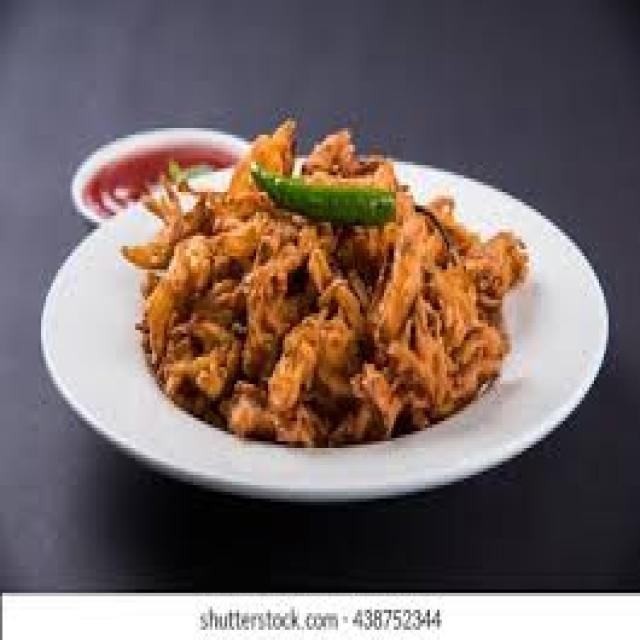BAJI: (133, 127, 521, 455)
